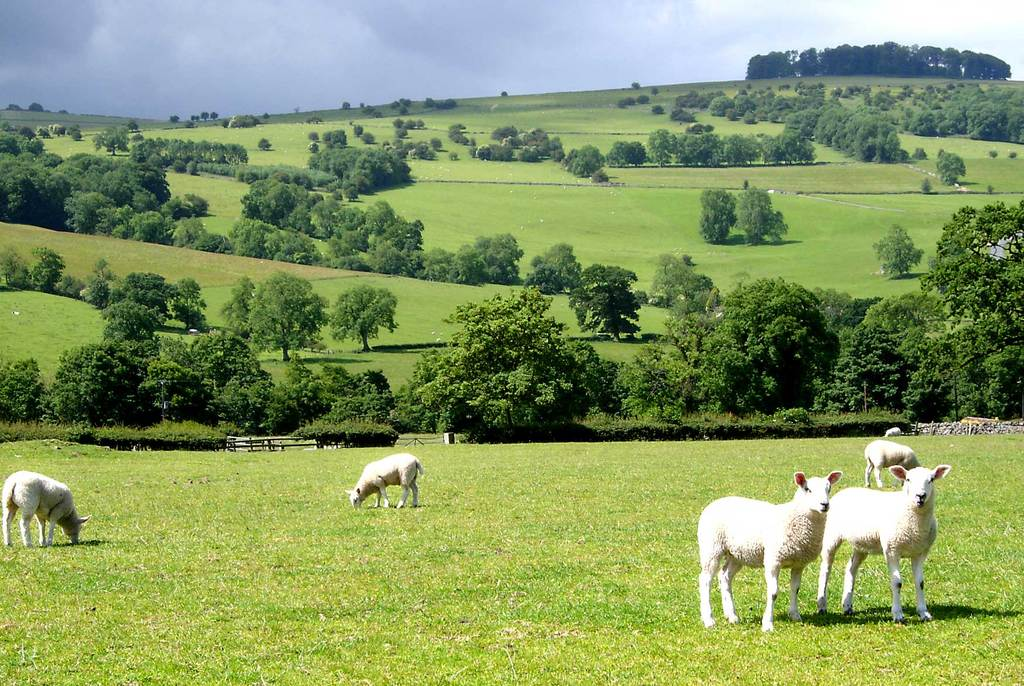sheep: (697, 471, 839, 630), (341, 458, 424, 507), (886, 428, 902, 436)
